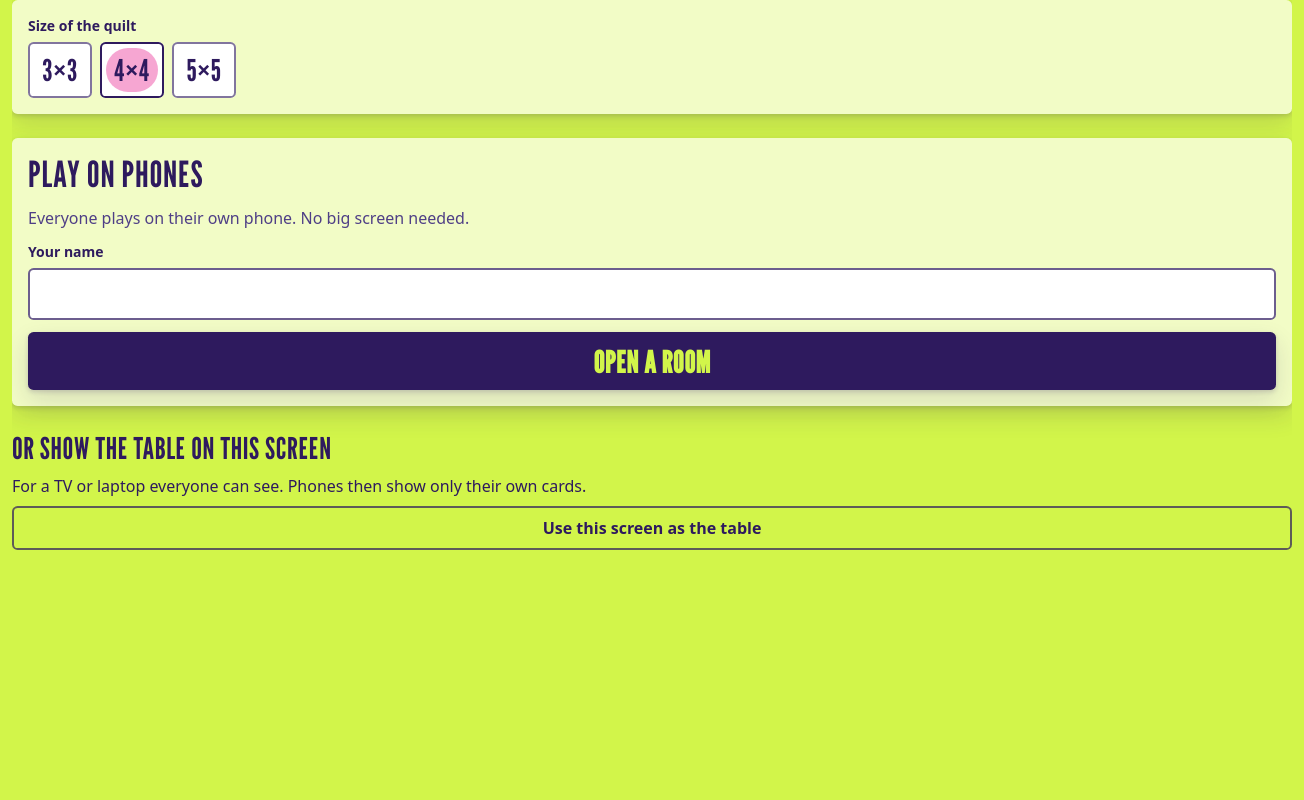
Test: opening a room › asks for a name before opening a room on this phone
Click the button "Open a room". click: coordinates (652, 361)
box: [28,332,1276,390]
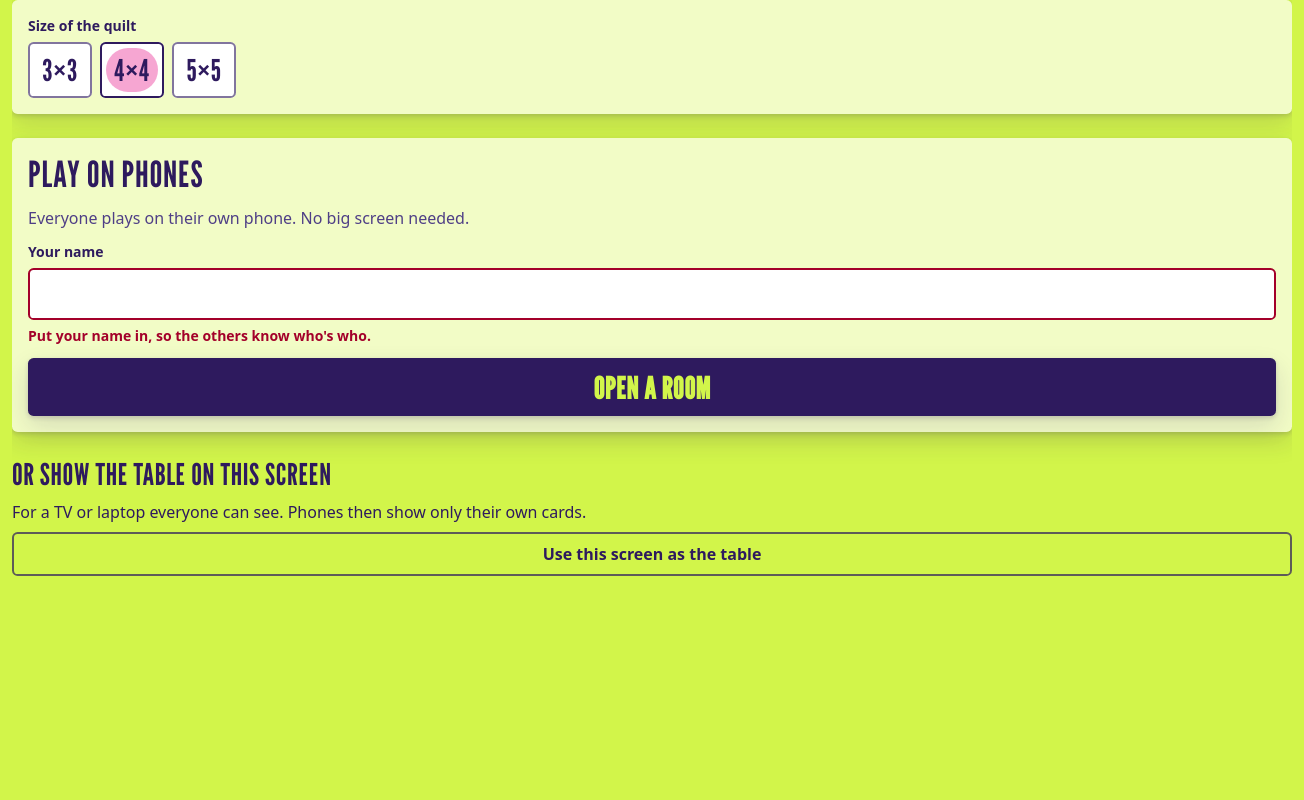
Expected: the text "Put your name in, so the others know who's who." is shown, [28,326,371,345]
